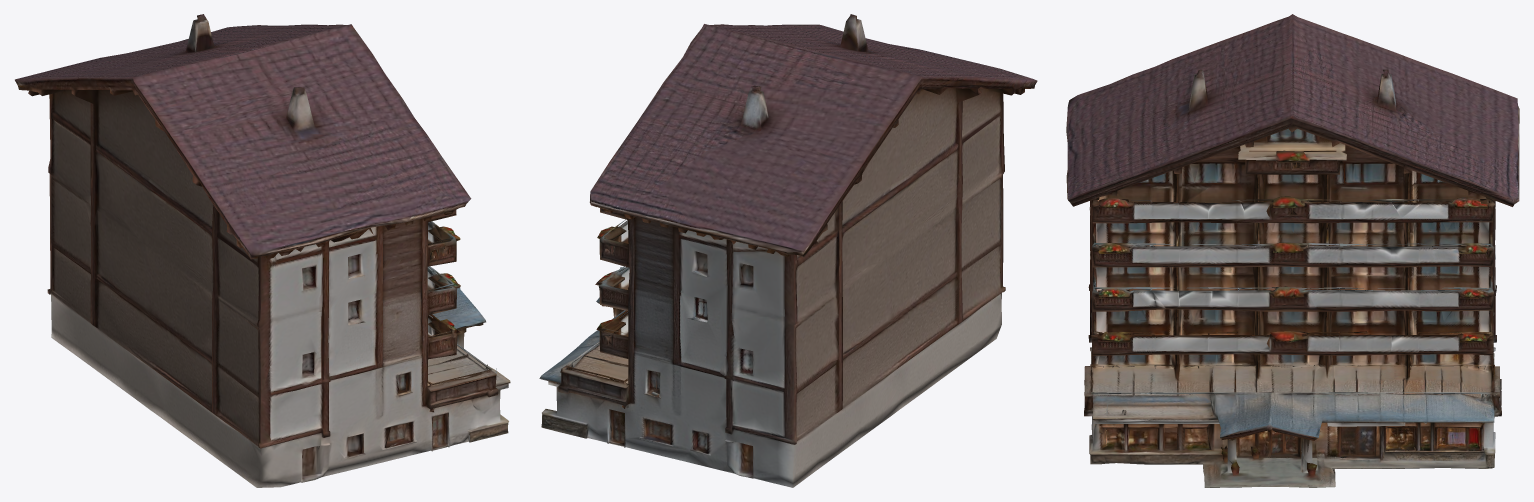
File: hotel.glb
3 views of the same model, side by side, from view 1: azimuth 30°, elevation 25°; view 2: azimuth 150°, elevation 25°; view 3: azimuth 270°, elevation 25° (orthographic). The views are drawn at different scales.
Visible parts, largest first — view 1: tripo_node_136607ec-f081-48a8-a5d1-9d001d6a1fe2; view 2: tripo_node_136607ec-f081-48a8-a5d1-9d001d6a1fe2; view 3: tripo_node_136607ec-f081-48a8-a5d1-9d001d6a1fe2.
Part boxes in pixels (left/top/right/bottom): tripo_node_136607ec-f081-48a8-a5d1-9d001d6a1fe2: left=15, top=14, right=510, bottom=487; tripo_node_136607ec-f081-48a8-a5d1-9d001d6a1fe2: left=539, top=14, right=1037, bottom=487; tripo_node_136607ec-f081-48a8-a5d1-9d001d6a1fe2: left=1066, top=14, right=1519, bottom=487.
Bounding box in the file's own units: 0.7585 × 0.78 × 0.9806.
Materials: 1 (1 with a texture image).
